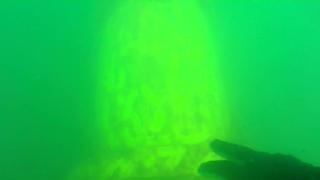pipe: (76, 1, 241, 178)
